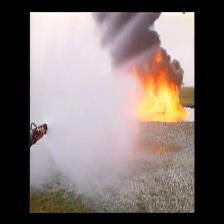fire: (141, 76, 192, 127)
smoke: (111, 13, 155, 56)
